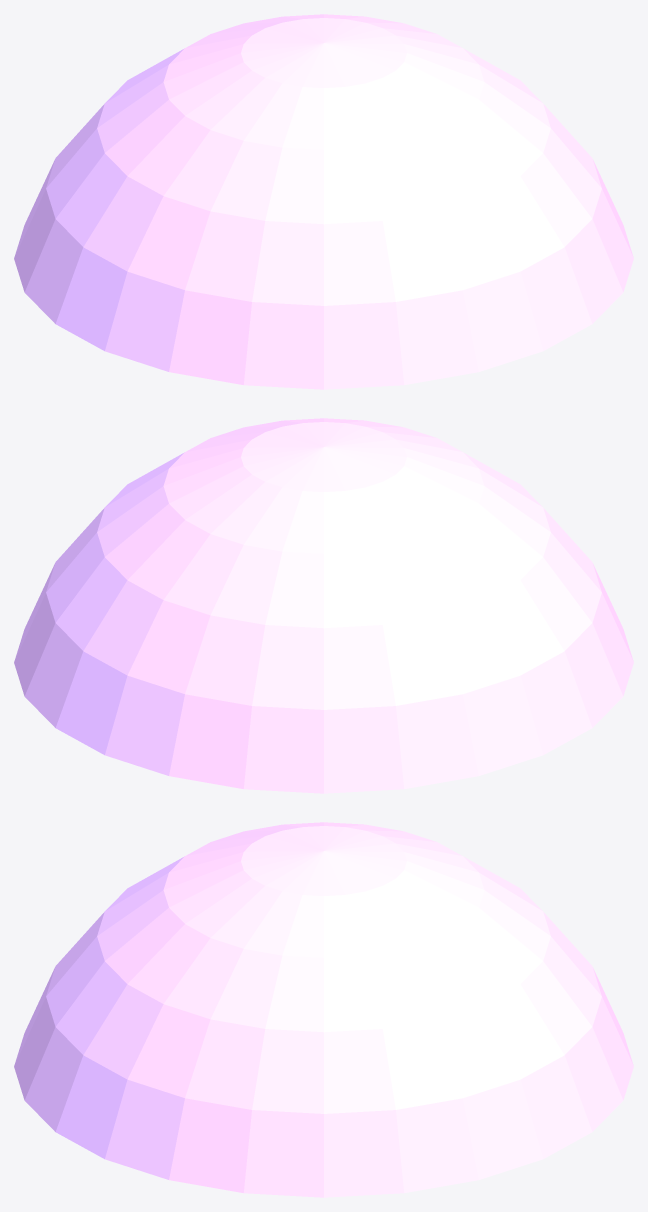
Rendered from dome_haze.glb.
3 views of the same model, one above another, from view 1: azimuth 30°, elevation 25°; view 2: azimuth 150°, elevation 25°; view 3: azimuth 270°, elevation 25° (orthographic).
Visible parts, largest first — view 1: Sphere; view 2: Sphere; view 3: Sphere.
Boxes of the visible parts, box(x1,y1,x2,y2) form: Sphere: box(14, 14, 633, 389); Sphere: box(14, 418, 633, 793); Sphere: box(14, 822, 633, 1197).
Size of the model in its own units: 299 by 115 by 299.
